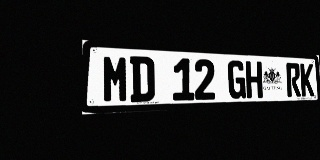1: (173, 58, 194, 101)
2: (194, 59, 215, 100)
D: (130, 56, 155, 102)
G: (227, 60, 246, 99)
H: (245, 61, 263, 98)
K: (300, 63, 314, 96)
M: (102, 55, 129, 103)
R: (286, 63, 301, 97)
